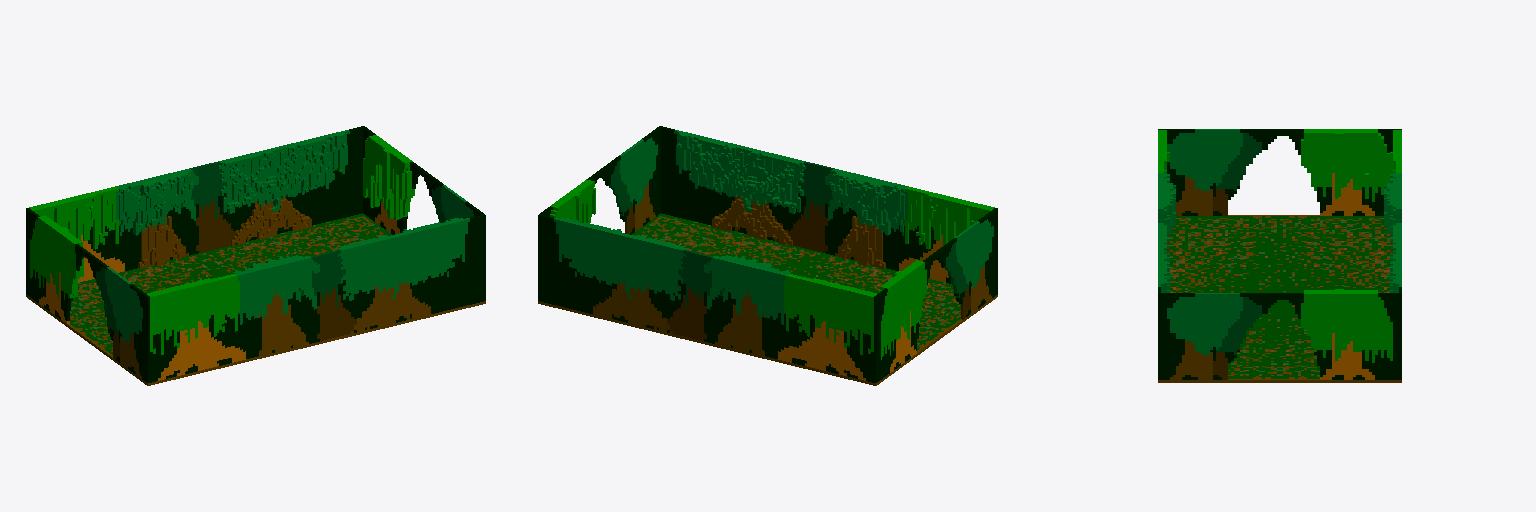
3 views of the same model, side by side, from view 1: azimuth 30°, elevation 25°; view 2: azimuth 150°, elevation 25°; view 3: azimuth 270°, elevation 25° (orthographic).
Visible parts, largest first — view 1: object 1; view 2: object 1; view 3: object 1.
Boxes of the visible parts, x1=… form: object 1: x1=26, y1=126, x2=485, y2=385; object 1: x1=538, y1=126, x2=997, y2=385; object 1: x1=1158, y1=129, x2=1401, y2=382.
Bounding box in the file's own units: 12.8 × 3.2 × 8.
Materials: 1 (1 with a texture image).